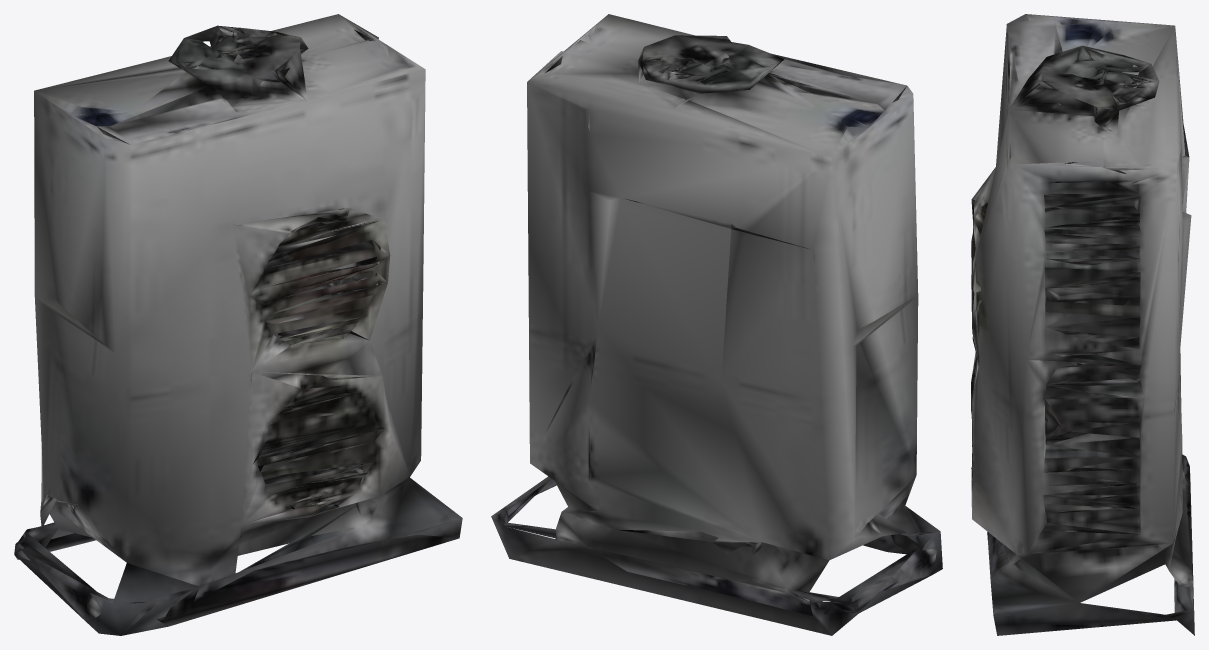
The model's file is roof_ac_cluster.glb.
3 renders of one model, left to right at view 1: azimuth 30°, elevation 25°; view 2: azimuth 150°, elevation 25°; view 3: azimuth 270°, elevation 25°, orthographic. The views are drawn at different scales.
Parts seen in each view (by area): view 1: roof_ac_cluster; view 2: roof_ac_cluster; view 3: roof_ac_cluster.
Part boxes in pixels (bbox=[...]): roof_ac_cluster: bbox=[14, 14, 462, 635]; roof_ac_cluster: bbox=[491, 14, 942, 635]; roof_ac_cluster: bbox=[971, 14, 1194, 635].
Size of the model in its own units: 2.81 by 3.62 by 1.49.
Materials: 1 (1 with a texture image).
